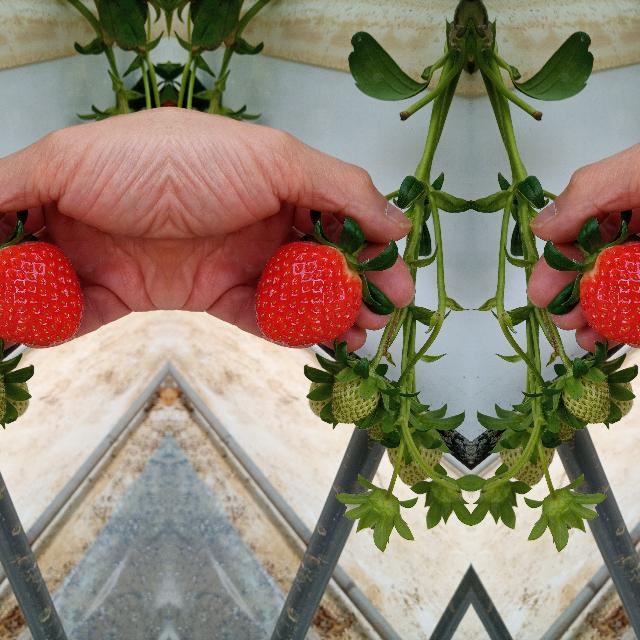Health_100: (252, 240, 362, 346), (0, 240, 83, 346), (579, 240, 640, 346)
Health_25: (494, 398, 554, 482), (388, 398, 447, 482), (327, 362, 373, 424), (568, 362, 614, 424)
